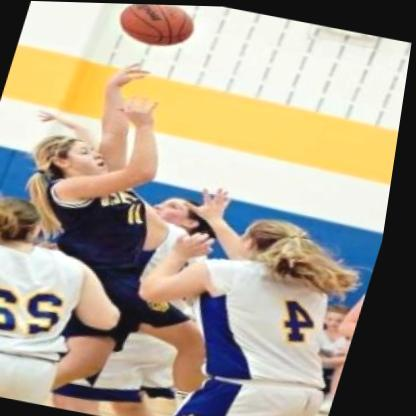basketball: (109, 3, 206, 54)
